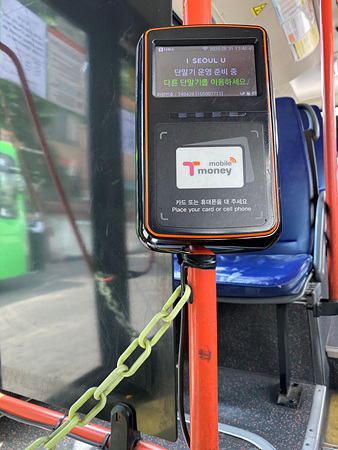terminal: (139, 29, 282, 246)
